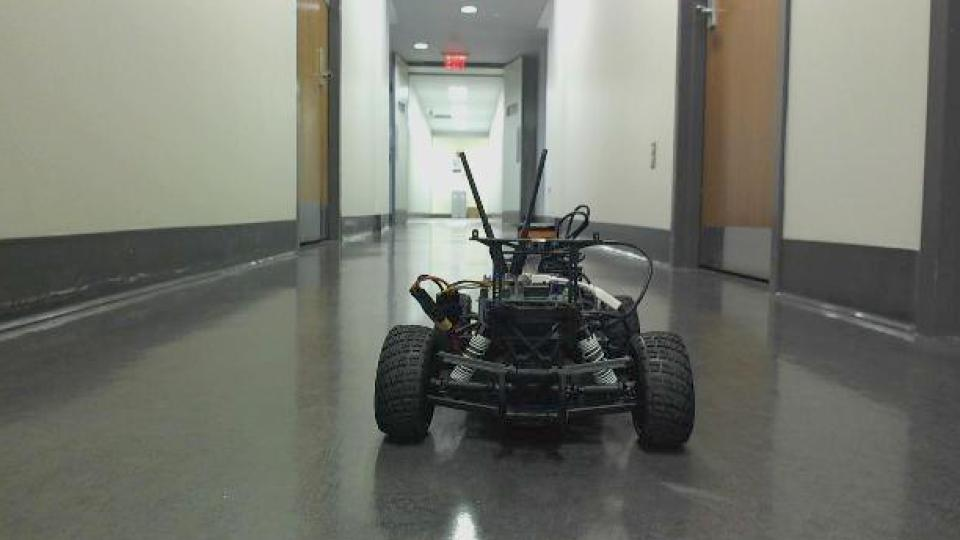car: (372, 146, 700, 452)
